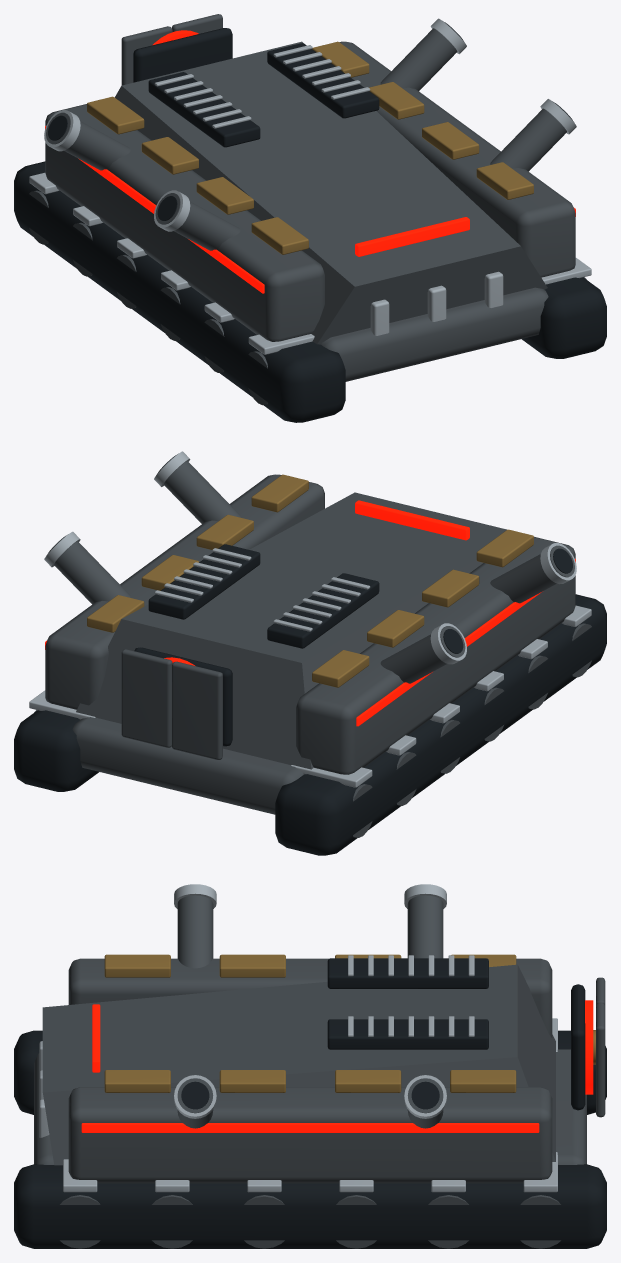
File: market_siege_engine.glb
The picture shows the model from 3 angles, top to bottom: view 1: azimuth 30°, elevation 25°; view 2: azimuth 150°, elevation 25°; view 3: azimuth 270°, elevation 25°; orthographic projection. The views are drawn at different scales.
Visible parts, largest first — view 1: Brushed dark alloy, Deep rubber and vents, Dull gold structural alloy, Machined light alloy, Rear_Control_Deep rubber and vents, Hostile seizure #FF1600, Rear_Shutter_L_Brushed dark alloy, Rear_Shutter_R_Brushed dark alloy; view 2: Brushed dark alloy, Deep rubber and vents, Dull gold structural alloy, Machined light alloy, Rear_Shutter_R_Brushed dark alloy, Rear_Shutter_L_Brushed dark alloy, Hostile seizure #FF1600, Rear_Control_Deep rubber and vents; view 3: Brushed dark alloy, Deep rubber and vents, Dull gold structural alloy, Machined light alloy, Hostile seizure #FF1600, Rear_Control_Deep rubber and vents, Rear_Shutter_R_Brushed dark alloy, Rear_Control_Hostile seizure #FF1600.
Boxes of the visible parts, <box> form: Brushed dark alloy: <box>29,21,586,405</box>; Deep rubber and vents: <box>14,22,606,422</box>; Dull gold structural alloy: <box>87,41,533,254</box>; Machined light alloy: <box>29,18,591,354</box>; Rear_Control_Deep rubber and vents: <box>133,28,232,82</box>; Hostile seizure #FF1600: <box>45,126,575,293</box>; Rear_Shutter_L_Brushed dark alloy: <box>121,26,172,85</box>; Rear_Shutter_R_Brushed dark alloy: <box>172,14,222,33</box>; Brushed dark alloy: <box>34,453,591,837</box>; Deep rubber and vents: <box>14,455,606,855</box>; Dull gold structural alloy: <box>87,474,533,687</box>; Machined light alloy: <box>29,451,591,787</box>; Rear_Shutter_R_Brushed dark alloy: <box>121,649,172,747</box>; Rear_Shutter_L_Brushed dark alloy: <box>172,661,222,759</box>; Hostile seizure #FF1600: <box>45,500,575,726</box>; Rear_Control_Deep rubber and vents: <box>134,647,232,746</box>; Brushed dark alloy: <box>34,895,586,1248</box>; Deep rubber and vents: <box>14,958,606,1248</box>; Dull gold structural alloy: <box>104,954,516,1092</box>; Machined light alloy: <box>39,884,557,1192</box>; Hostile seizure #FF1600: <box>81,1004,539,1132</box>; Rear_Control_Deep rubber and vents: <box>571,984,585,1110</box>; Rear_Shutter_R_Brushed dark alloy: <box>596,1003,605,1117</box>; Rear_Control_Hostile seizure #FF1600: <box>585,1000,593,1094</box>.
Size of the model in its own units: 8.73 by 3.71 by 10.3.
